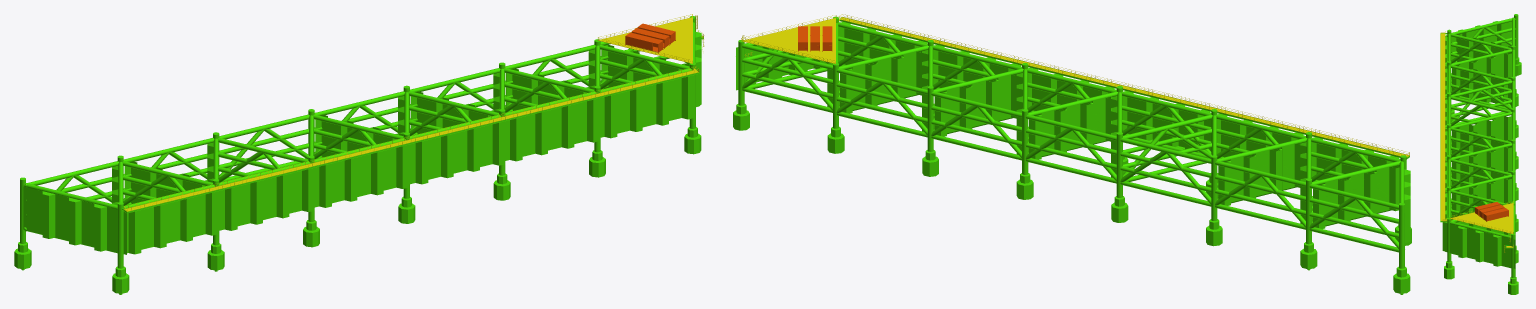
Rendered from 01-Mainstructure-walkway-opti.glb.
3 views of the same model, side by side, from view 1: azimuth 30°, elevation 25°; view 2: azimuth 150°, elevation 25°; view 3: azimuth 270°, elevation 25° (orthographic). The views are drawn at different scales.
Visible parts, largest first — view 1: 3D Solid.133, ACPPSTRUCTUREPLATE, 3D Solid.081; view 2: 3D Solid.133, ACPPSTRUCTUREPLATE, 3D Solid.081; view 3: 3D Solid.133, ACPPSTRUCTUREPLATE, 3D Solid.081.
Boxes of the visible parts, x1,y1,x2,y2 form: 3D Solid.133: (14, 16, 703, 294); ACPPSTRUCTUREPLATE: (124, 14, 704, 211); 3D Solid.081: (625, 23, 675, 53); 3D Solid.133: (733, 16, 1411, 294); ACPPSTRUCTUREPLATE: (741, 14, 1409, 157); 3D Solid.081: (798, 26, 832, 51); 3D Solid.133: (1440, 14, 1521, 294); ACPPSTRUCTUREPLATE: (1440, 31, 1513, 252); 3D Solid.081: (1475, 202, 1508, 221).
Size of the model in its own units: 248 by 34.83 by 37.86.
